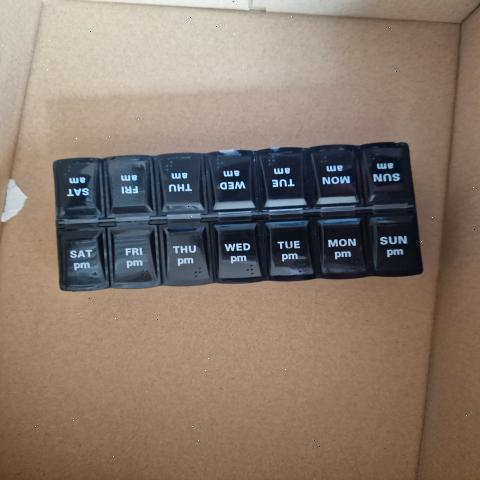FRI-am: (105, 157, 155, 214)
FRI-pm: (107, 231, 156, 288)
MON-am: (314, 148, 357, 208)
MON-pm: (319, 216, 362, 277)
SAT-am: (54, 160, 102, 220)
SAT-pm: (62, 236, 105, 287)
SUN-am: (364, 145, 407, 203)
SUN-pm: (369, 221, 418, 276)
THU-am: (158, 157, 204, 212)
THU-pm: (163, 229, 208, 282)
TUE-am: (259, 150, 309, 208)
TUE-pm: (266, 224, 314, 276)
WED-am: (206, 155, 256, 209)
WED-pm: (215, 226, 262, 280)
